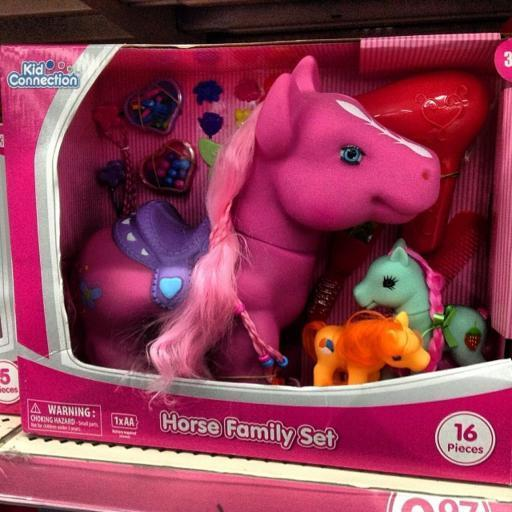horse: (75, 56, 440, 418), (350, 237, 488, 377), (298, 312, 432, 390)
